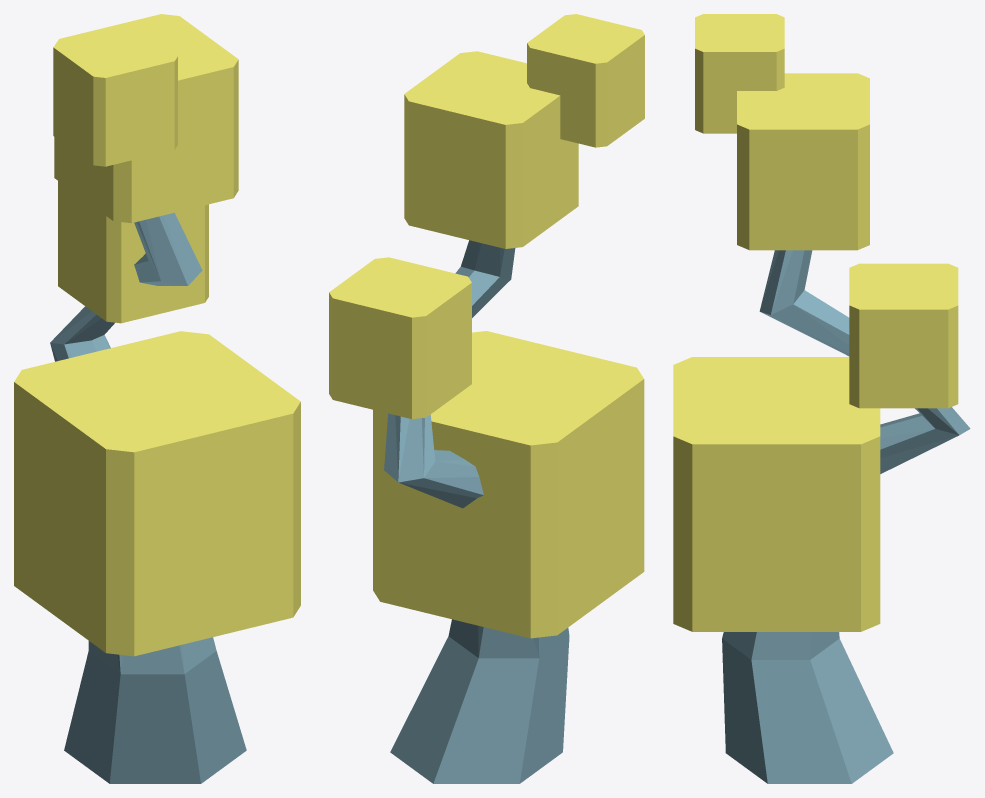
The picture shows the model from 3 angles, left to right: view 1: azimuth 30°, elevation 25°; view 2: azimuth 150°, elevation 25°; view 3: azimuth 270°, elevation 25°; orthographic projection. The views are drawn at different scales.
Visible parts, largest first — view 1: Cube.004, Cube, Cube.005, Cube.001, Cube.003; view 2: Cube.004, Cube, Cube.005, Cube.003, Cube.001; view 3: Cube.004, Cube, Cube.005, Cube.003, Cube.001.
Part boxes in pixels (box(x1,y1,x2,y2)): Cube.004: box(14, 331, 300, 656); Cube: box(50, 212, 246, 783); Cube.005: box(54, 14, 238, 223); Cube.001: box(53, 25, 177, 166); Cube.003: box(58, 181, 208, 323); Cube.004: box(373, 331, 644, 638); Cube: box(384, 240, 569, 783); Cube.005: box(404, 51, 578, 248); Cube.003: box(329, 257, 471, 419); Cube.001: box(527, 14, 644, 147); Cube.004: box(673, 357, 880, 631); Cube: box(722, 250, 970, 783); Cube.005: box(737, 73, 869, 250); Cube.003: box(849, 263, 958, 408); Cube.001: box(695, 14, 784, 133).
Bounding box in the file's own units: 0.8371 × 2.96 × 1.16.
